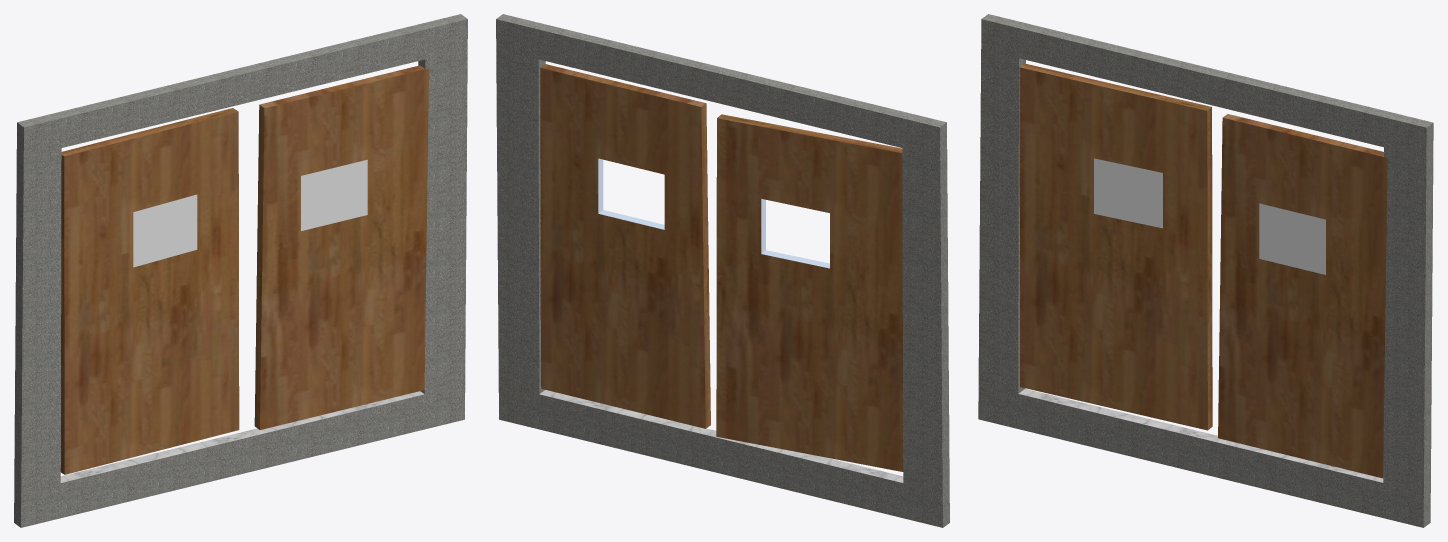
File: fengmen.gltf
The picture shows the model from 3 angles, left to right: view 1: azimuth 30°, elevation 25°; view 2: azimuth 150°, elevation 25°; view 3: azimuth 330°, elevation 25°; orthographic projection.
Parts seen in each view (by area): view 1: Mesh1 Model, Mesh2 Model; view 2: Mesh1 Model, Mesh2 Model; view 3: Mesh1 Model, Mesh2 Model.
Part boxes in pixels (x1,y1,x2,y2): Mesh1 Model: (14,14,467,527); Mesh2 Model: (60,108,239,474); Mesh1 Model: (496,14,949,527); Mesh2 Model: (716,114,903,471); Mesh1 Model: (978,14,1433,527); Mesh2 Model: (1019,63,1212,430).
Bounding box in the file's own units: 2.96 × 2.53 × 0.1331.
Materials: 5 (3 with a texture image).
